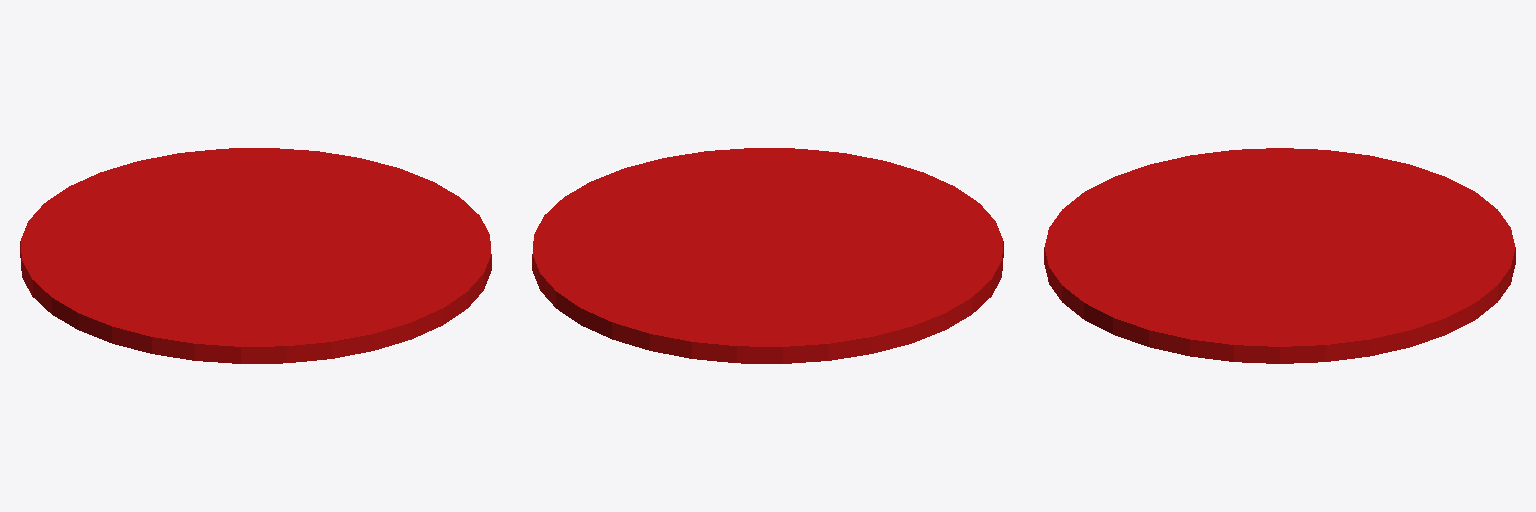
URDF robot description (checkers_piece):
<?xml version="1.0"?>
<robot name="checkers_piece">
    <link name="base_link">
        <visual>
            <origin xyz="0 0 0" rpy="0 0 0"/>
            <geometry>
                <cylinder radius="0.025" length="0.002"/>
            </geometry>
            <material name="red">
                <color rgba="0.8 0.1 0.1 1"/>
            </material>
        </visual>
        <collision>
            <origin xyz="0 0 0" rpy="0 0 0"/>
            <geometry>
                <cylinder radius="0.025" length="0.002"/>
            </geometry>
        </collision>

        <inertial>
            <mass value="1.0"/>
            <origin xyz="0 0 0"/>
            <inertia ixx="1.0" ixy="0.0" ixz="0.0" 
                     iyy="1.0" iyz="0.0" izz="1.0"/>
        </inertial>
    </link>
</robot>

--- Facts derived from the render (not from the file) ---
The picture shows the robot from 3 angles, left to right: view 1: azimuth 30°, elevation 25°; view 2: azimuth 150°, elevation 25°; view 3: azimuth 270°, elevation 25°; orthographic projection.
Model checkers_piece with 1 links and 0 joints (none), rooted at base_link, posed all joints at 0.
Visible links, largest first — view 1: base_link; view 2: base_link; view 3: base_link.
Link boxes in pixels (left/top/right/bottom): base_link: left=20, top=148, right=491, bottom=363; base_link: left=532, top=148, right=1003, bottom=363; base_link: left=1044, top=148, right=1515, bottom=363.
Bounding box of the posed robot: 0.05 × 0.05 × 0.002 m (x, y, z).
Geometry: primitives only (box / cylinder / sphere), no mesh files.
